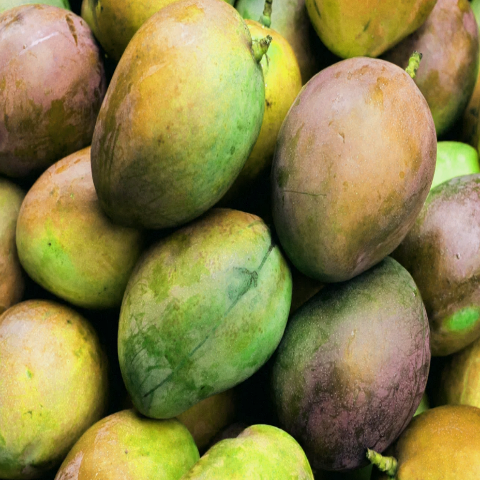mango: (69, 0, 284, 240), (269, 27, 442, 285), (95, 206, 313, 409), (262, 252, 441, 476)
